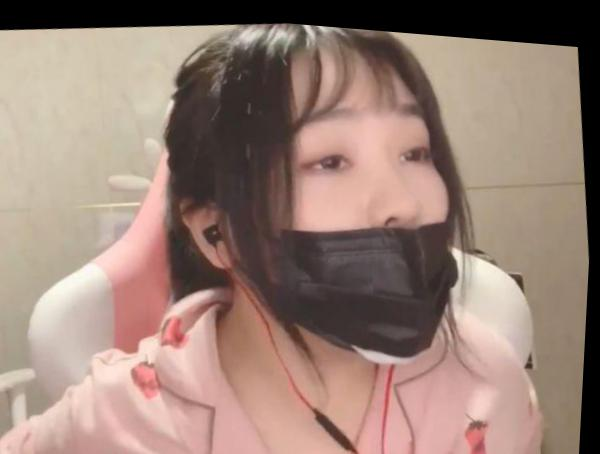WRONG: (238, 50, 478, 372)
